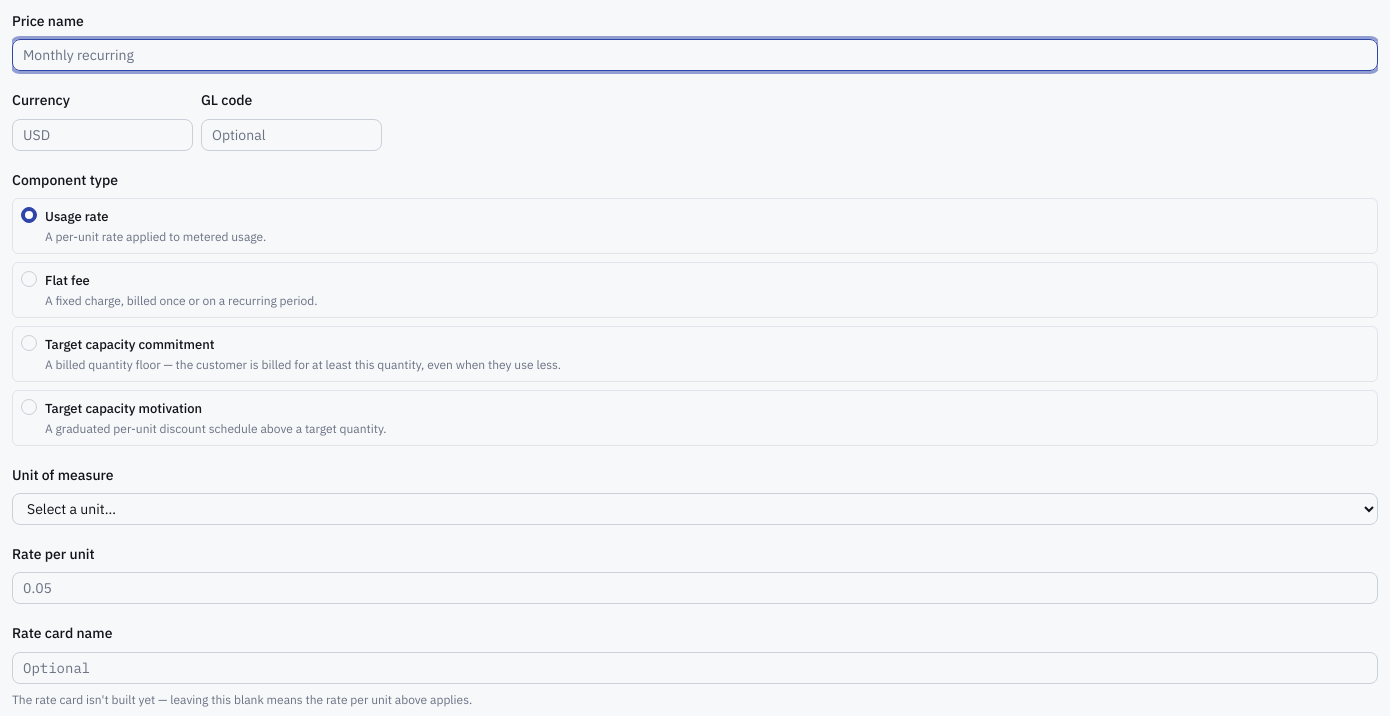
PriceForm — component picker (D1) › flat_fee hides the unit and only shows the period pair when recurring
This screenshot has width=1390, height=716.
Click the radio button named "Flat fee" next to "Flat fee" at (29, 279), box [21,271,37,287]
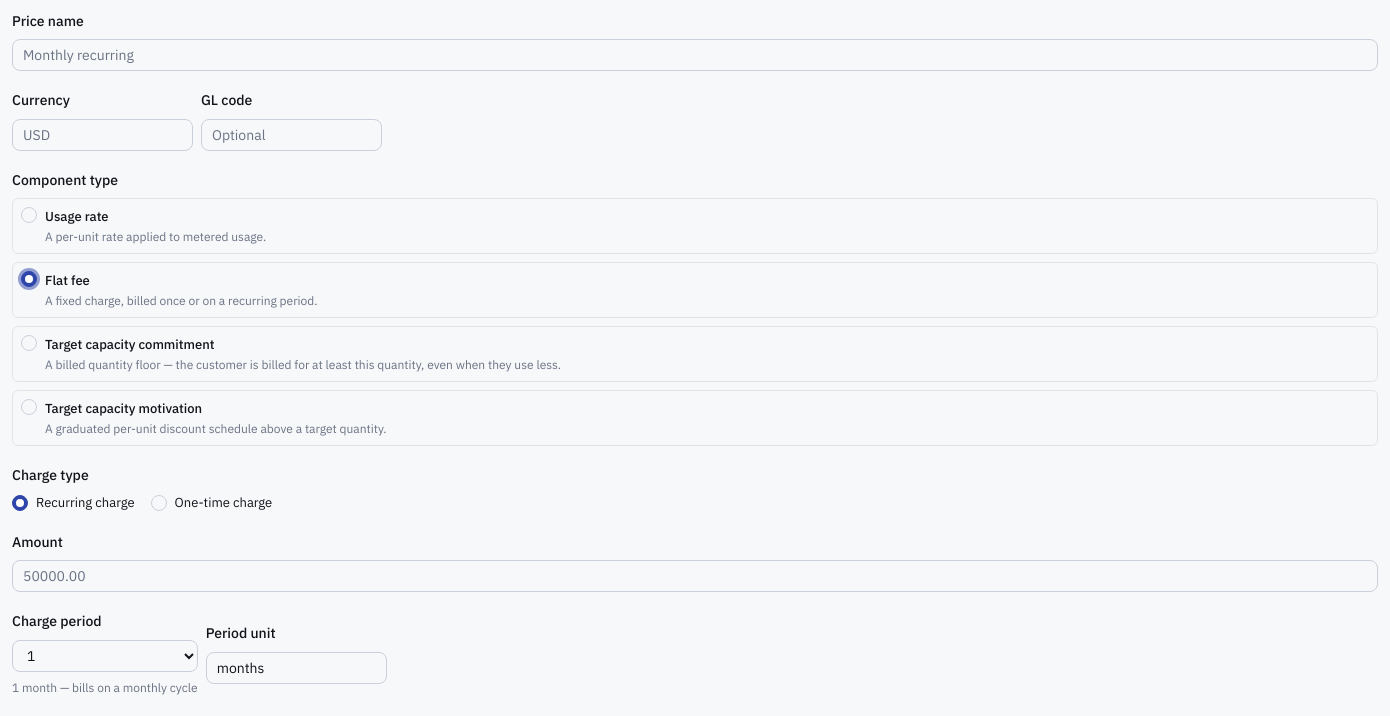
Now the label labelled "Unit of measure" is gone
Now the radio button named "Recurring charge" next to "Recurring charge" is checked, box [12,495,28,511]
Now the dropdown labelled "Charge period" is shown, box [12,640,198,672]
Click the radio button named "One-time charge" next to "One-time charge" at (159, 503), box [151,495,167,511]
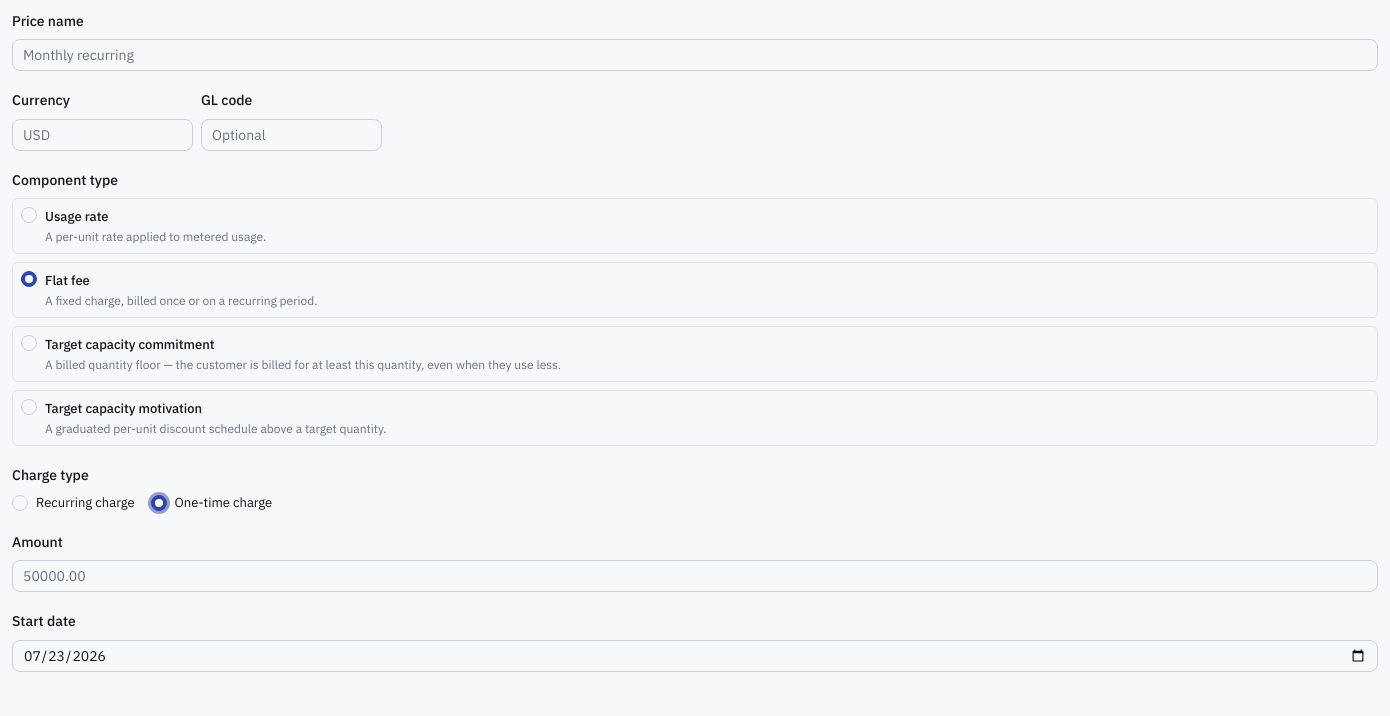
Expected: the label labelled "Unit of measure" is not shown
Now the label labelled "Charge period" is gone
